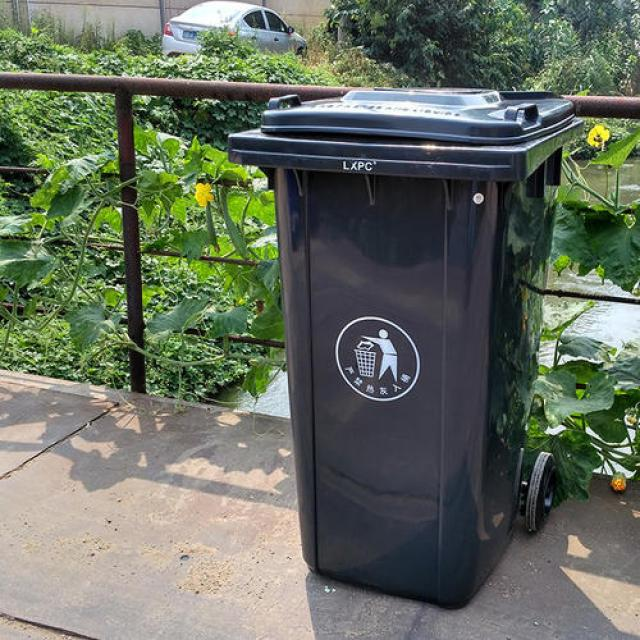garbage_bin: (225, 90, 585, 608)
